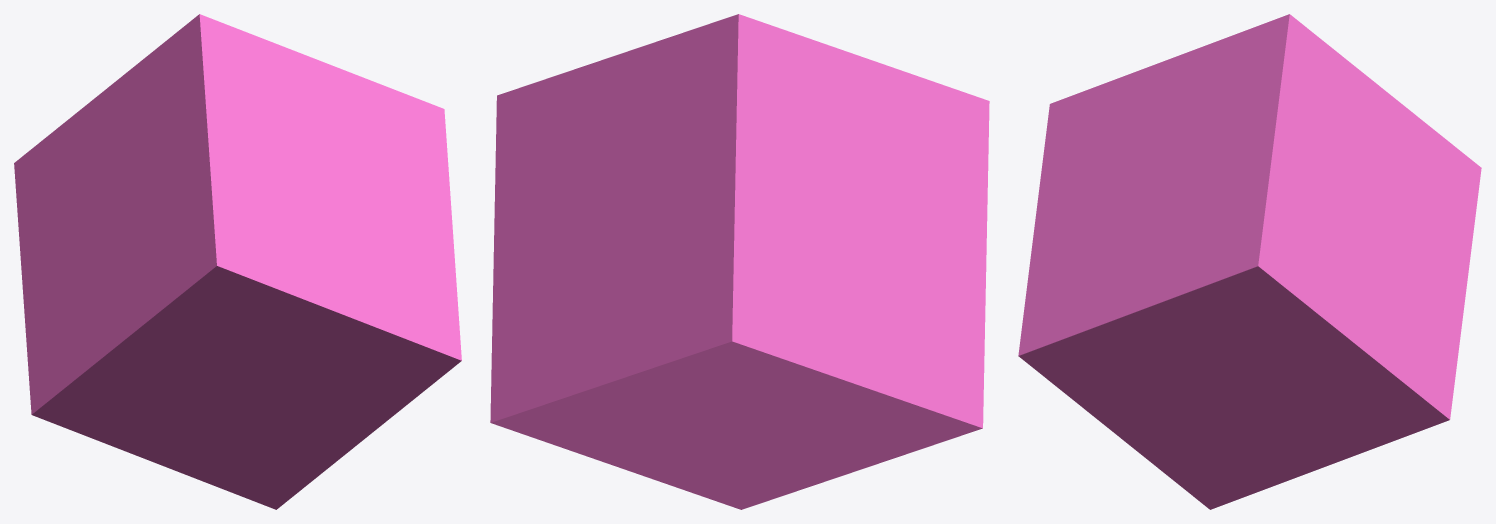
The model's file is InfoExpo_DianeArbus.gltf.
The picture shows the model from 3 angles, left to right: view 1: azimuth 30°, elevation 25°; view 2: azimuth 150°, elevation 25°; view 3: azimuth 270°, elevation 25°; orthographic projection. The views are drawn at different scales.
Visible parts, largest first — view 1: InfoExpo_DianeArbus; view 2: InfoExpo_DianeArbus; view 3: InfoExpo_DianeArbus.
Boxes of the visible parts, box(x1,y1,x2,y2) form: InfoExpo_DianeArbus: box(14, 14, 461, 509); InfoExpo_DianeArbus: box(490, 14, 989, 509); InfoExpo_DianeArbus: box(1018, 14, 1481, 509).
Bounding box in the file's own units: 0.3389 × 0.3661 × 0.3218.
